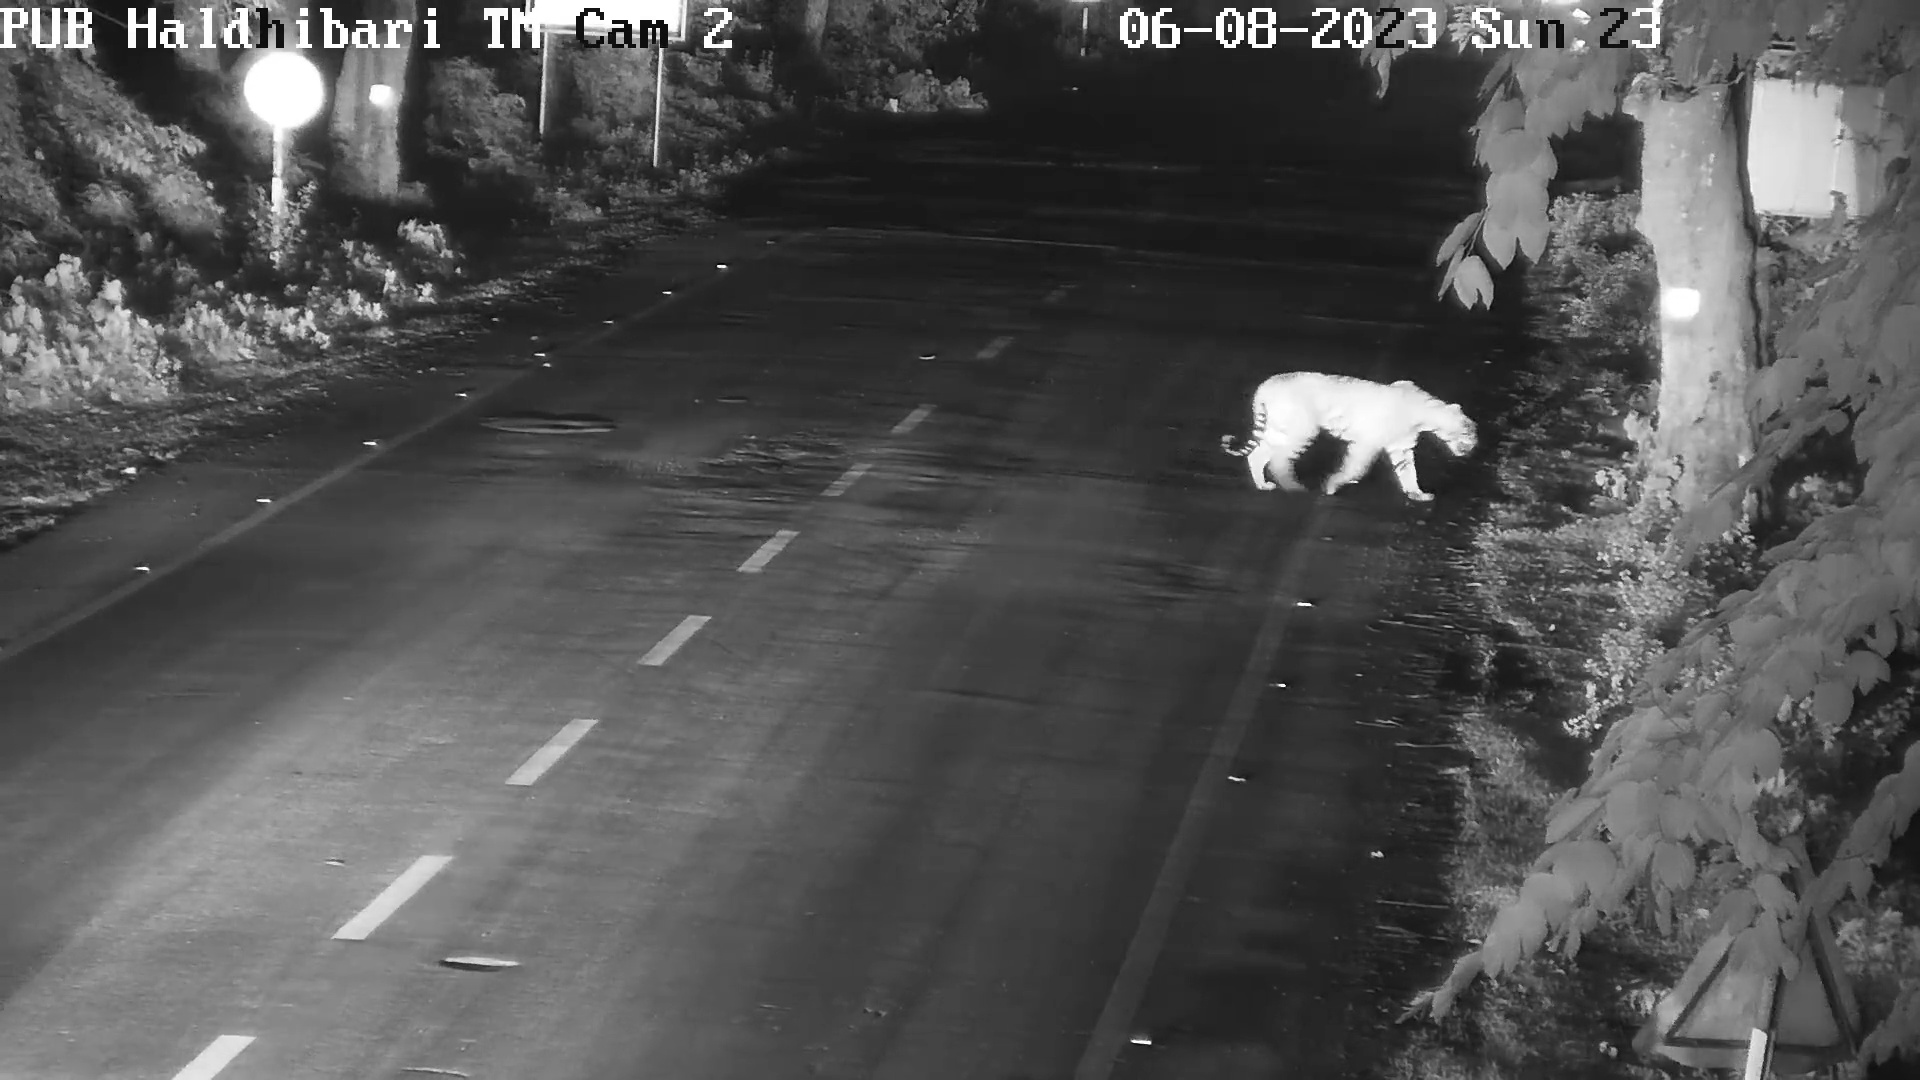tigers: (1224, 371, 1481, 508)
